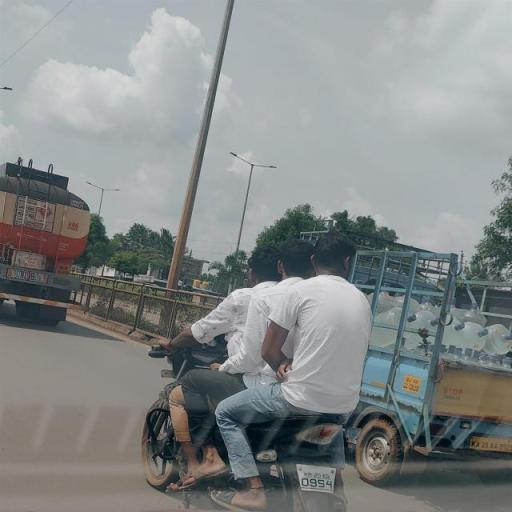tripple riding: (147, 232, 389, 417)
